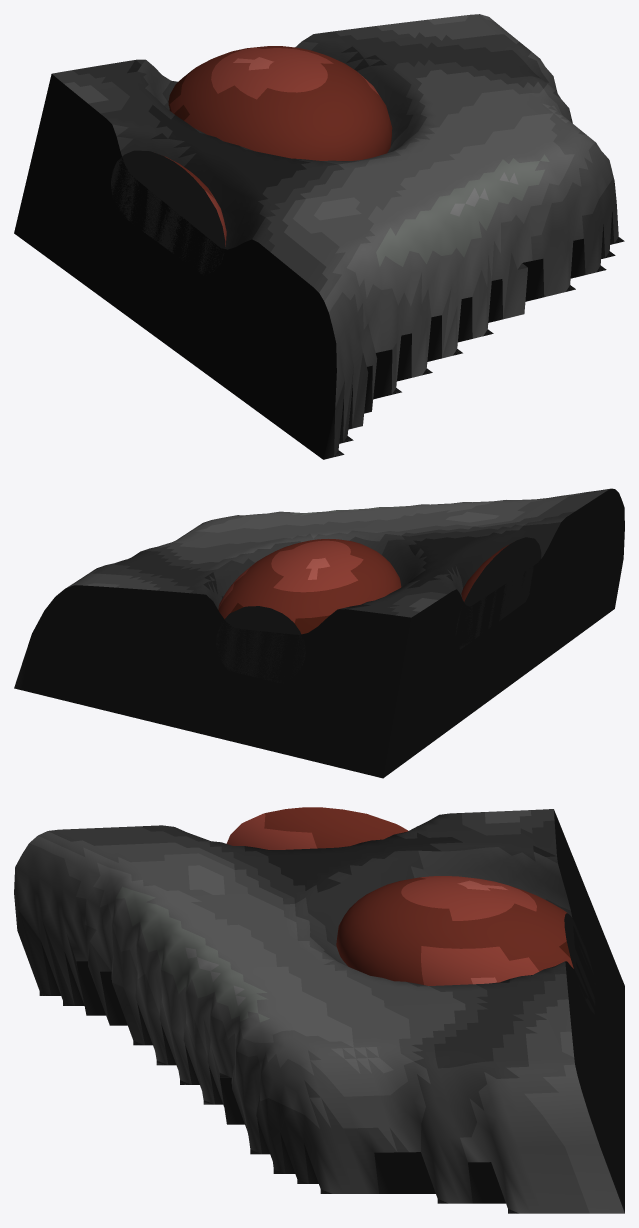
The model's file is dome_head_89.glb.
3 views of the same model, one above another, from view 1: azimuth 30°, elevation 25°; view 2: azimuth 150°, elevation 25°; view 3: azimuth 270°, elevation 25° (orthographic). The views are drawn at different scales.
Parts seen in each view (by area): view 1: dome_head_89; view 2: dome_head_89; view 3: dome_head_89.
Part boxes in pixels (x1,y1,x2,y2): dome_head_89: (14,14,624,459); dome_head_89: (14,488,624,778); dome_head_89: (14,807,624,1213).
Bounding box in the file's own units: 23 × 8.48 × 26.09.
